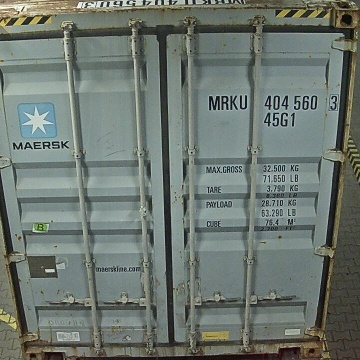serial_id: (209, 94, 338, 110)
